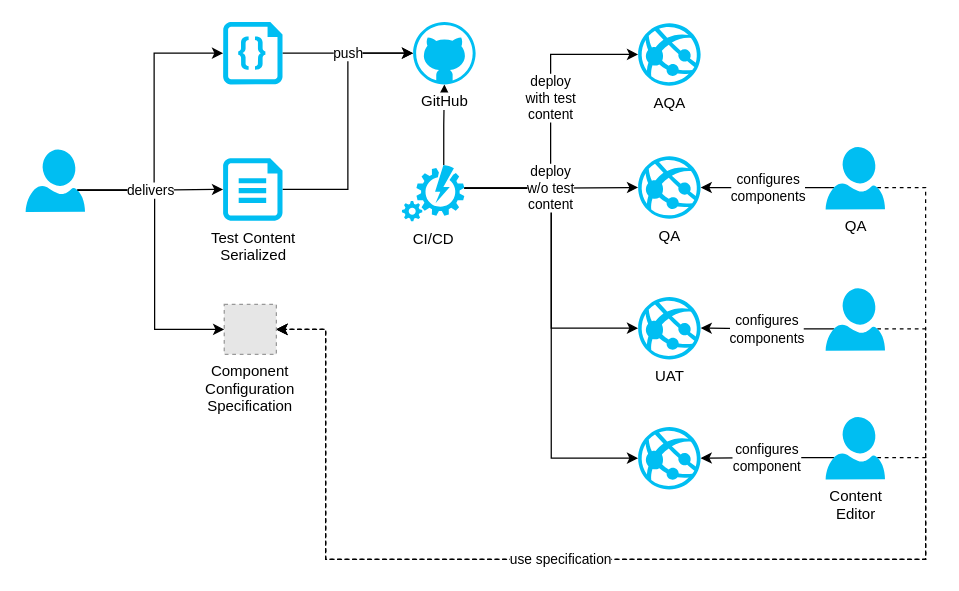
This 959x591 diagram has some shape labels left out. Grey dashed boxes stand in for pictures. Each missing label, with the centre of its shape:
Client: the point at 854,319
Code: the point at 252,52
Production: the point at 669,457
Sitecore Developer: the point at 54,180
